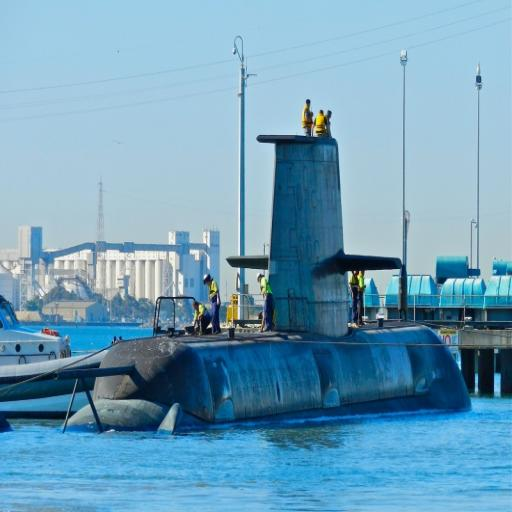submarine: (68, 141, 481, 432)
